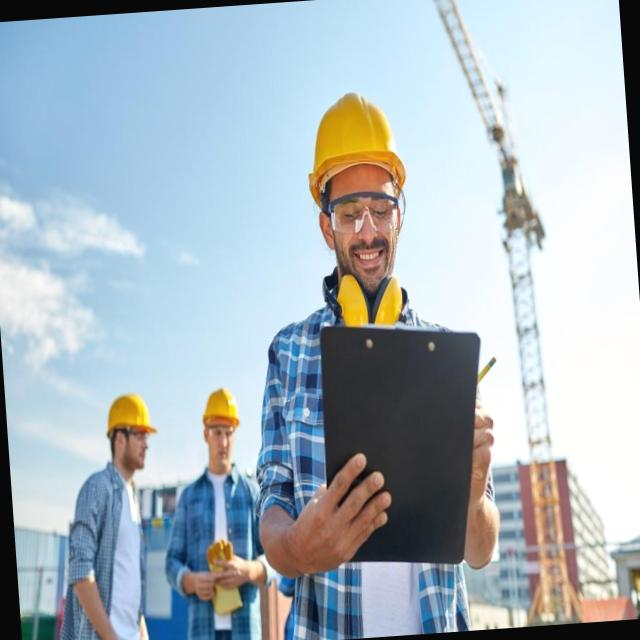helmet: (306, 89, 410, 184), (102, 381, 156, 436), (202, 383, 238, 429)
no-vest: (64, 463, 153, 640), (170, 466, 253, 640)
